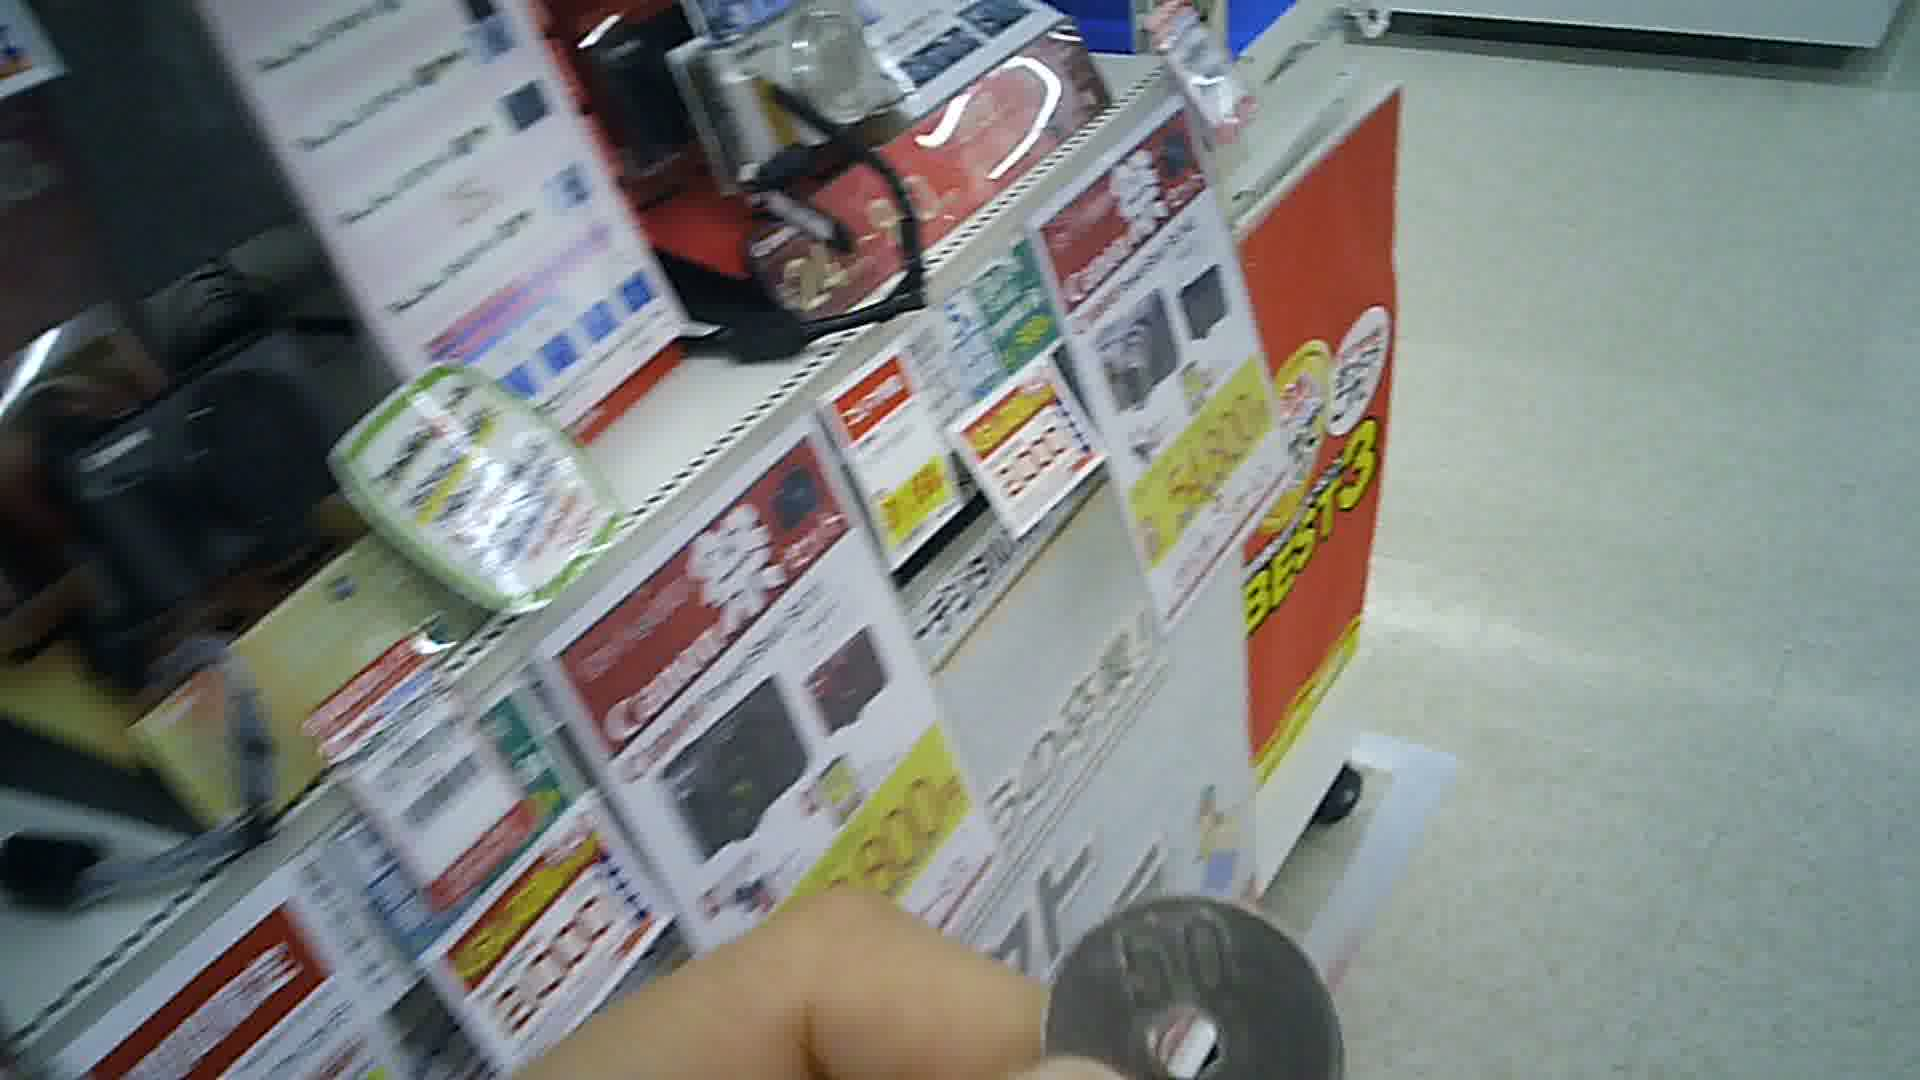50 Yen: (1038, 889, 1360, 1079)
